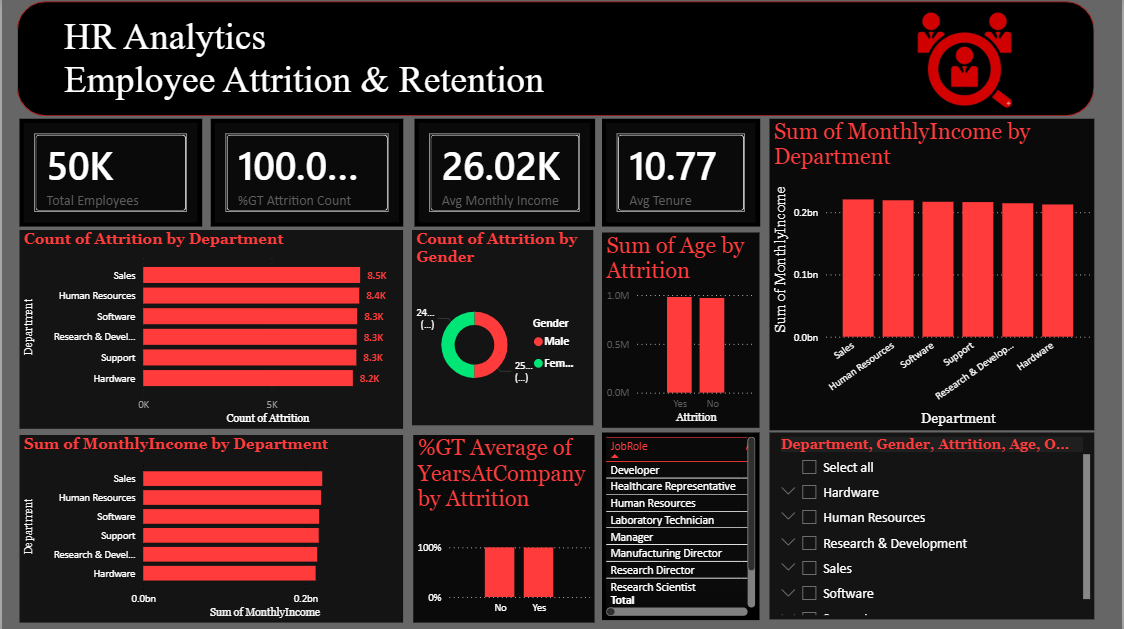

Layout of this report page (visuals, bound fields, positions):
{"tool":"powerbi","page":{"name":"Page 1","canvas":[1280,720],"ordinal":0},"visuals":[{"type":"shape","box":[17.5,1.2,1231.2,131.2],"z":0},{"type":"textbox","box":[65.7,11.4,1017.1,144.3],"z":1000},{"type":"cardVisual","fields":{"Data":["HR_1.Avg Monthly Income"]},"box":[470.9,136.2,206.2,123.4],"z":2000},{"type":"cardVisual","fields":{"Data":["HR_1.Avg Tenure"]},"box":[685.9,136.2,180.7,123.4],"z":3000},{"type":"clusteredBarChart","fields":{"Category":["HR_1.Department"],"Y":["CountNonNull(HR_1.Attrition)"]},"box":[20,262.9,438.6,227.1],"z":4000},{"type":"donutChart","fields":{"Y":["CountNonNull(HR_1.Attrition)"],"Category":["HR_1.Gender"]},"box":[468.6,262.9,207.1,222.9],"z":6000},{"type":"columnChart","fields":{"Y":["Sum(HR_2.MonthlyIncome)"],"Category":["HR_1.Department"]},"box":[877.1,136.3,371.6,355.9],"z":7000},{"type":"columnChart","fields":{"Y":["Sum(HR_2.YearsAtCompany)"],"Category":["HR_1.Attrition"]},"box":[470,497.1,207.1,214.3],"z":8000},{"type":"columnChart","fields":{"Y":["Sum(HR_1.Age)"],"Category":["HR_1.Attrition"]},"box":[685.7,265.7,180,222.9],"z":9000},{"type":"pivotTable","fields":{"Rows":["HR_1.JobRole"],"Values":["HR_1.Avg Work-Life Balance"]},"box":[685.7,494.3,180,214.3],"z":10000},{"type":"slicer","fields":{"Values":["HR_1.Department","HR_1.Gender","HR_1.Attrition","HR_1.Age","HR_2.OverTime"]},"box":[20,497.1,438.6,214.3],"z":11000},{"type":"cardVisual","fields":{"Data":["HR_1.Total Employees"]},"box":[20.4,136.2,208.7,123.4],"z":12000},{"type":"cardVisual","fields":{"Data":["HR_1.Attrition Count"]},"box":[239.3,136.2,220.2,123.4],"z":13000},{"type":"image","box":[1022.9,11.4,154.3,112.9],"z":14000},{"type":"treemap","fields":{"Group":["HR_1.Attrition"],"Values":["Sum(HR_2.PercentSalaryHike)"]},"box":[877,494,372,214],"z":14001}]}

Visuals, with their boxes in screenshot pixels (x1, y1, x2, y2), scaled from the page's 1280x720 canvas onto the 1124x629 screenshot:
shape: [15,1,1097,116]
textbox: [58,10,951,136]
cardVisual - HR_1.Avg Monthly Income: [414,119,595,227]
cardVisual - HR_1.Avg Tenure: [602,119,761,227]
clusteredBarChart - HR_1.Department x CountNonNull(HR_1.Attrition): [18,230,403,428]
donutChart - CountNonNull(HR_1.Attrition) x HR_1.Gender: [411,230,593,424]
columnChart - Sum(HR_2.MonthlyIncome) x HR_1.Department: [770,119,1097,430]
columnChart - Sum(HR_2.YearsAtCompany) x HR_1.Attrition: [413,434,595,621]
columnChart - Sum(HR_1.Age) x HR_1.Attrition: [602,232,760,427]
pivotTable - HR_1.JobRole x HR_1.Avg Work-Life Balance: [602,432,760,619]
slicer - HR_1.Department x HR_1.Gender: [18,434,403,621]
cardVisual - HR_1.Total Employees: [18,119,201,227]
cardVisual - HR_1.Attrition Count: [210,119,403,227]
image: [898,10,1034,109]
treemap - HR_1.Attrition x Sum(HR_2.PercentSalaryHike): [770,432,1097,619]
